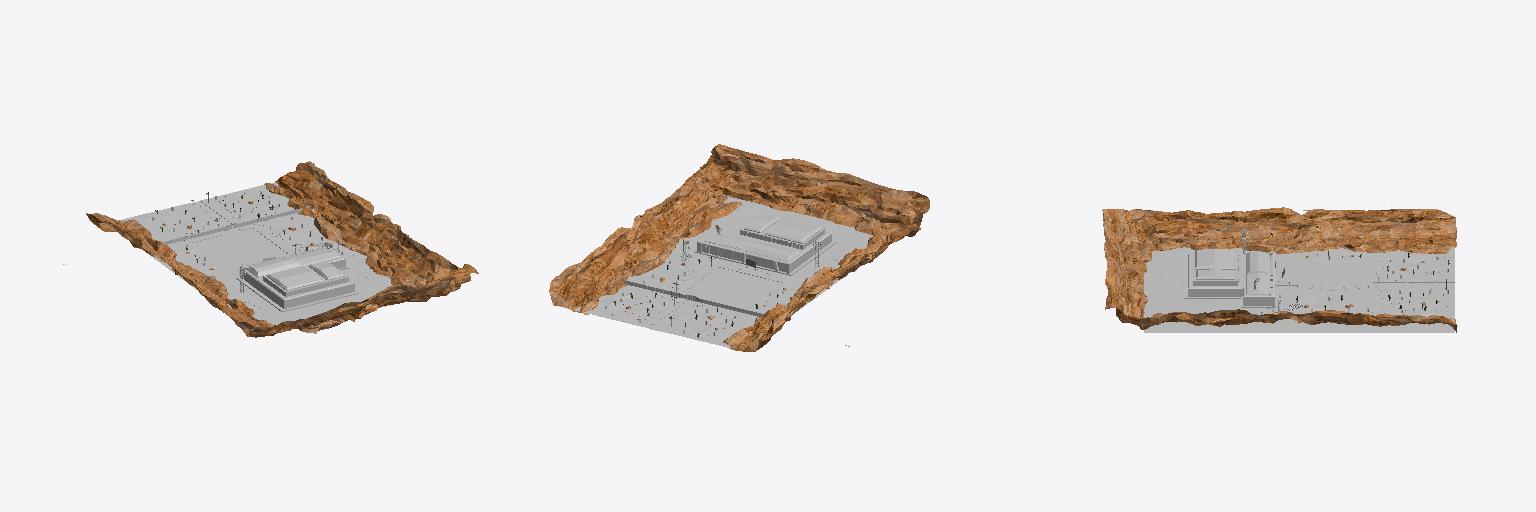
The picture shows the model from 3 angles: view 1: azimuth 30°, elevation 25°; view 2: azimuth 150°, elevation 25°; view 3: azimuth 270°, elevation 25°; orthographic projection.
Parts seen in each view (by area): view 1: mountain, Plane.023, Cube.005; view 2: mountain, Plane.023, Cube.005; view 3: mountain, Plane.023, Cube.005.
Boxes of the visible parts, x1,y1,x2,y2 form: mountain: [86, 161, 478, 337]; Plane.023: [121, 182, 406, 324]; Cube.005: [236, 246, 358, 311]; mountain: [549, 144, 929, 351]; Plane.023: [559, 194, 872, 348]; Cube.005: [695, 213, 836, 275]; mountain: [1102, 207, 1457, 332]; Plane.023: [1144, 247, 1454, 332]; Cube.005: [1184, 249, 1275, 308].
Size of the model in its own units: 116 by 16.19 by 130.
33 materials, 5 textured.